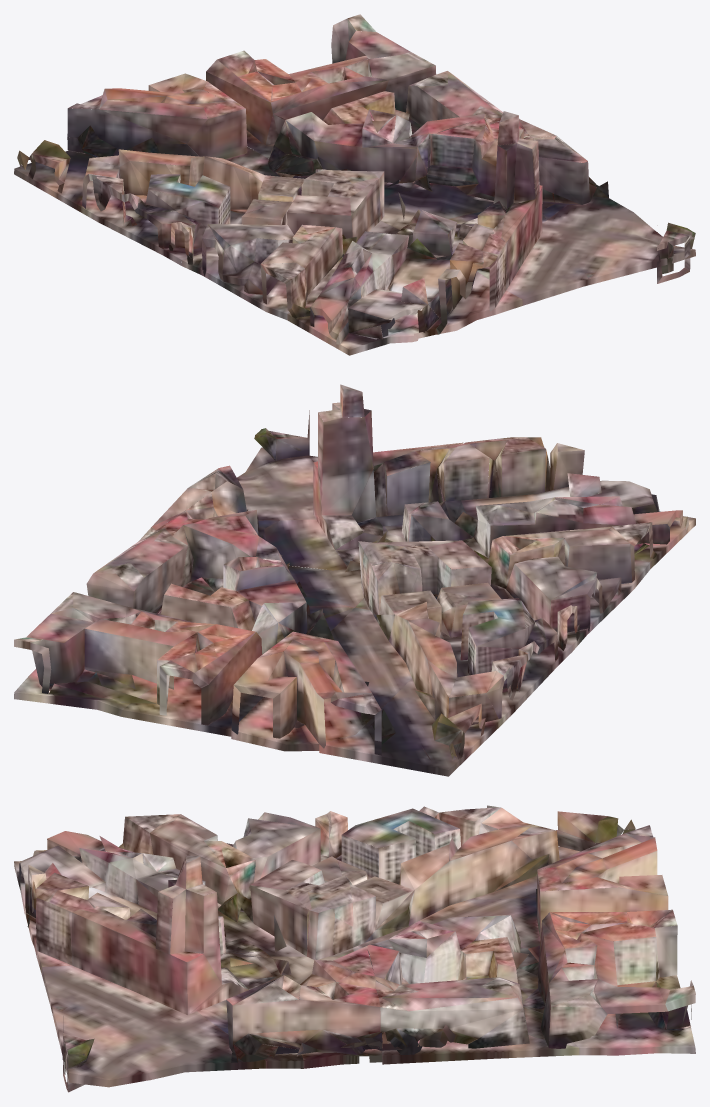
The picture shows the model from 3 angles, top to bottom: view 1: azimuth 30°, elevation 25°; view 2: azimuth 150°, elevation 25°; view 3: azimuth 270°, elevation 25°; orthographic projection. The views are drawn at different scales.
Parts seen in each view (by area): view 1: Mesh_0; view 2: Mesh_0; view 3: Mesh_0.
Part boxes in pixels (x1,y1,x2,y2): Mesh_0: (14,14,695,355); Mesh_0: (14,384,695,776); Mesh_0: (14,805,695,1092).
Bounding box in the file's own units: 266 × 90.11 × 330.
2 materials, 2 textured.
